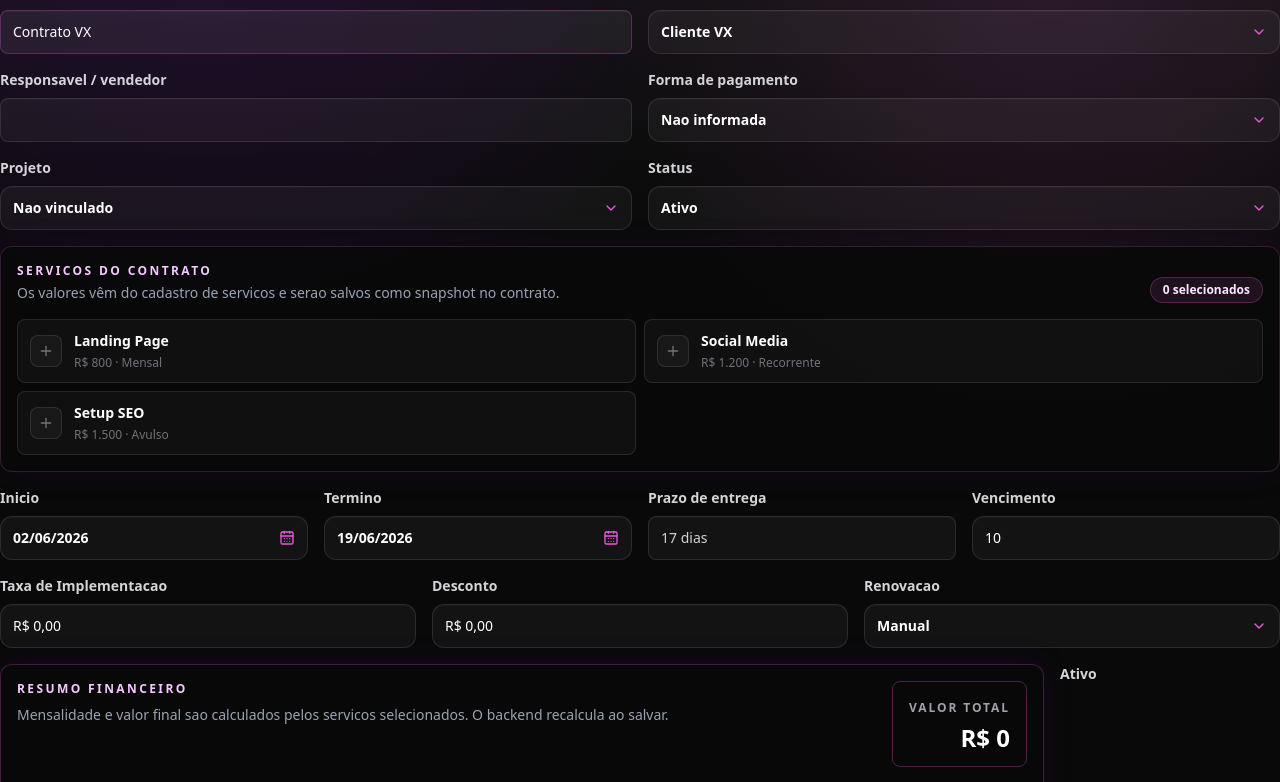
ContractFormFields › keeps duration readonly and shows delivery prazo for one-time contracts
Click the button "Setup SEO R$ 1.500 · Avulso". click: click(46, 423)
box: [17,391,636,455]
(page scrolled)
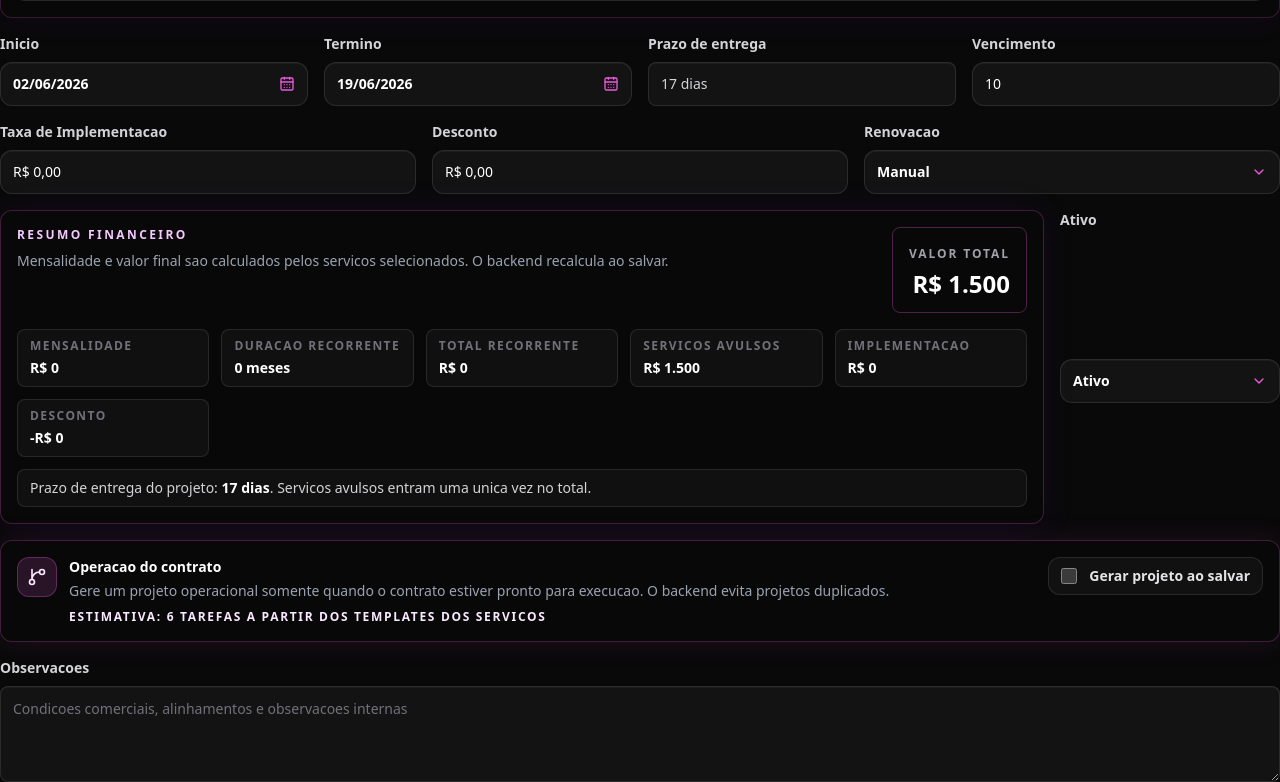
Check: the field labelled "Prazo de entrega" holds "17 dias", box [648,62,956,106]
Check: the text "Servicos avulsos entram uma unica vez no total" is shown, box [270,478,591,497]
